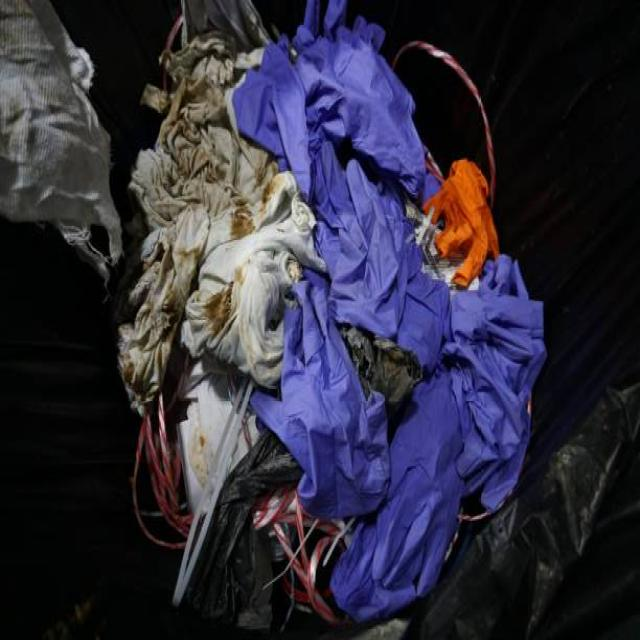plastic: (247, 94, 522, 530)
trash: (108, 19, 630, 640)
